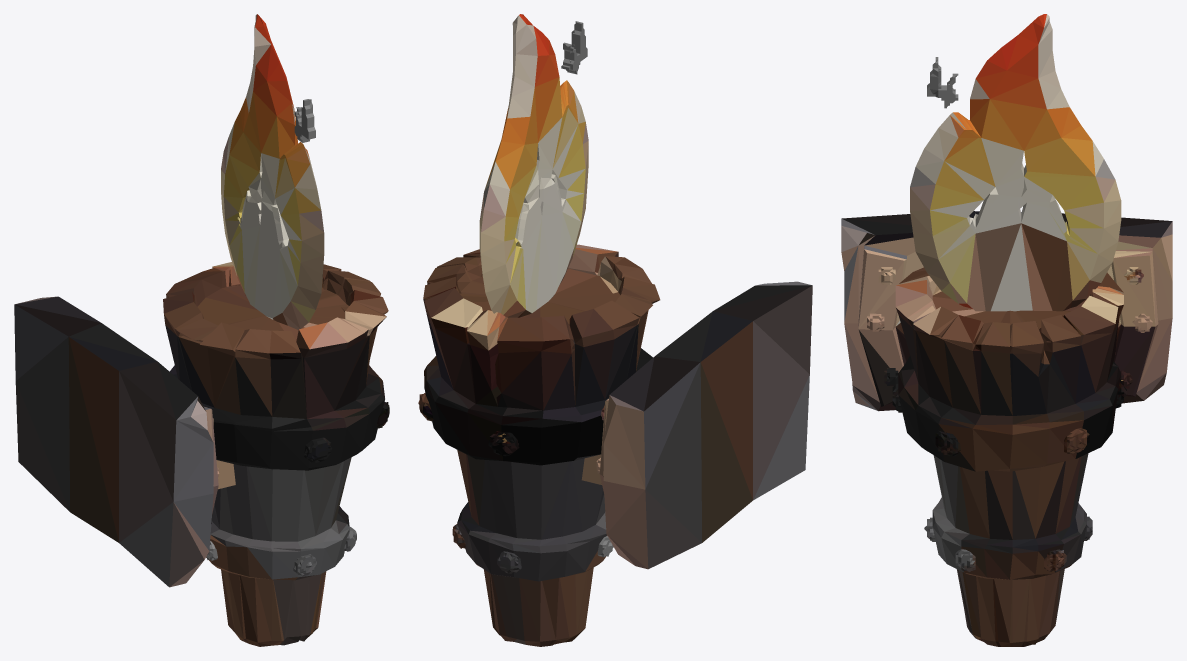
File: Torch_Wall.glb
3 views of the same model, side by side, from view 1: azimuth 30°, elevation 25°; view 2: azimuth 150°, elevation 25°; view 3: azimuth 270°, elevation 25° (orthographic). The views are drawn at different scales.
Parts seen in each view (by area): view 1: world; view 2: world; view 3: world.
Part boxes in pixels (x1,y1,x2,y2): world: [14, 14, 389, 646]; world: [418, 14, 812, 646]; world: [841, 14, 1172, 646].
Bounding box in the file's own units: 0.2246 × 0.4668 × 0.2266.
